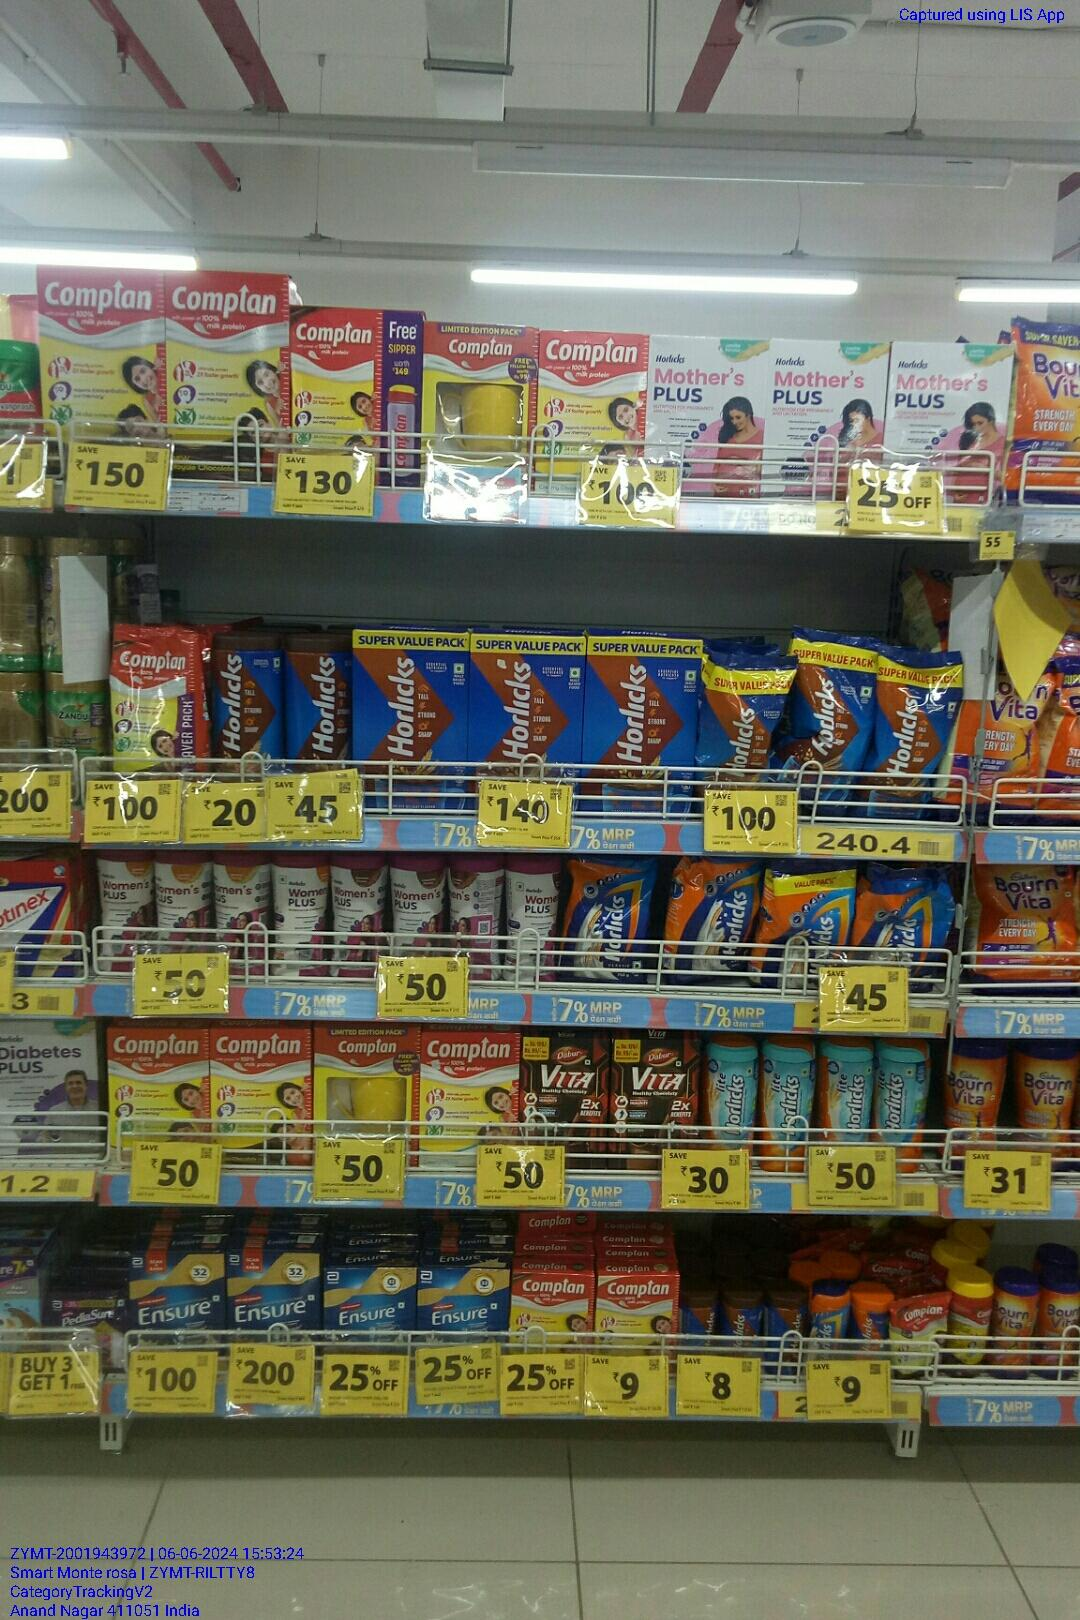BOURN_VITA_1_KG_POUCH: (1012, 317, 1080, 500)
BOURN_VITA_200_G_JAR: (996, 1266, 1038, 1381)
BOURN_VITA_500_G_JAR: (1014, 1038, 1075, 1163), (945, 1038, 999, 1155)
BOURN_VITA_750_G_POUCH: (982, 861, 1080, 986)
COMPLAN_CHOCOLATE_1_KG_PACK: (354, 632, 466, 816), (585, 638, 700, 812), (470, 633, 581, 782)
COMPLAN_CREAMY_CLASSIC_500_G_PACK: (538, 333, 648, 493)
COMPLAN_RC_POUCH_700_GMS_12: (111, 621, 205, 780)
HORLICKS_LITE_REGULAR_MALT_500_GM_JAR: (876, 1038, 933, 1173), (759, 1034, 815, 1172), (703, 1033, 756, 1150), (817, 1035, 874, 1144)
HORLICK_CHOCOLATE_1_KG_JAR: (213, 629, 277, 777), (283, 632, 347, 770)
HORLICK_CLASSIC_MALT_750_G_POUCH: (567, 857, 653, 988), (863, 867, 956, 988), (679, 861, 756, 985)
